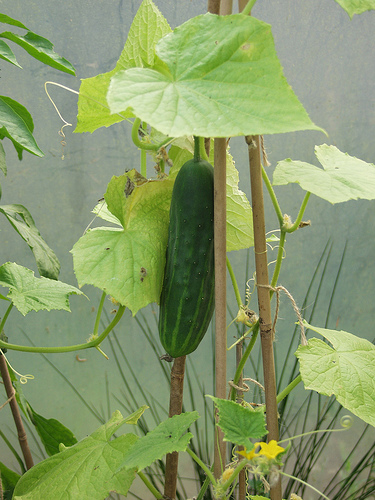cucumber: (157, 157, 212, 361)
